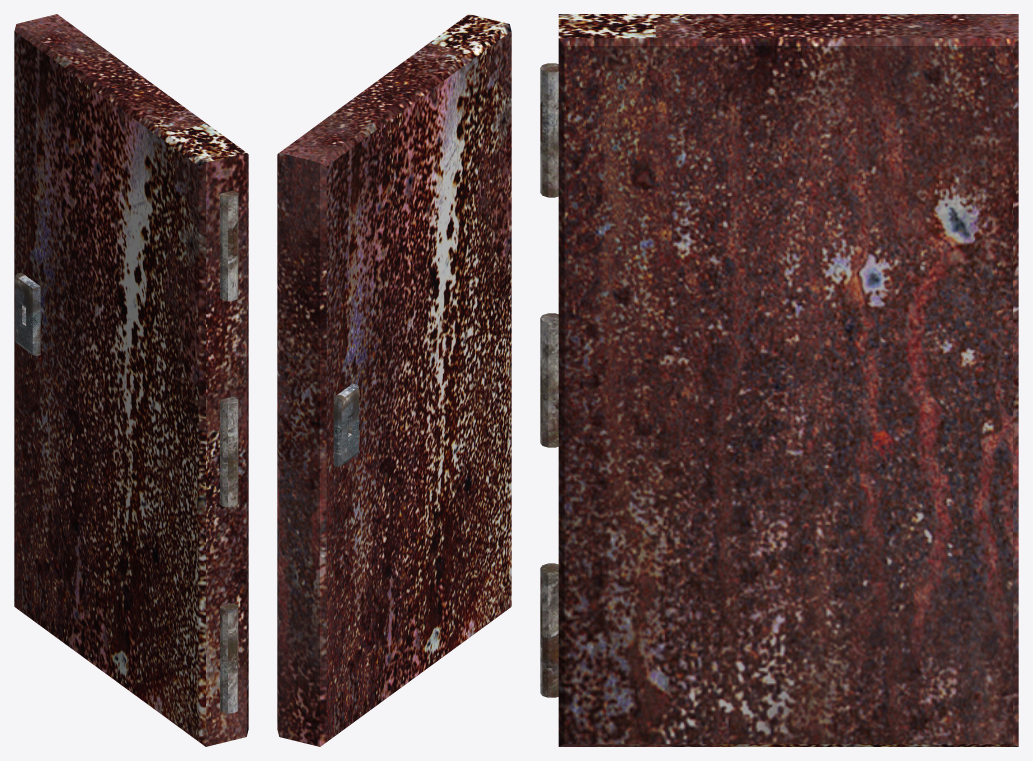
File: door.obj
3 views of the same model, side by side, from view 1: azimuth 30°, elevation 25°; view 2: azimuth 150°, elevation 25°; view 3: azimuth 270°, elevation 25° (orthographic). The views are drawn at different scales.
Parts seen in each view (by area): view 1: Door; view 2: Door; view 3: Door.
Part boxes in pixels (x1,y1,x2,y2): Door: (14,14,248,746); Door: (277,14,511,746); Door: (540,14,1018,746).
Bounding box in the file's own units: 0.175 × 1.7 × 1.04.
2 materials, 2 textured.
